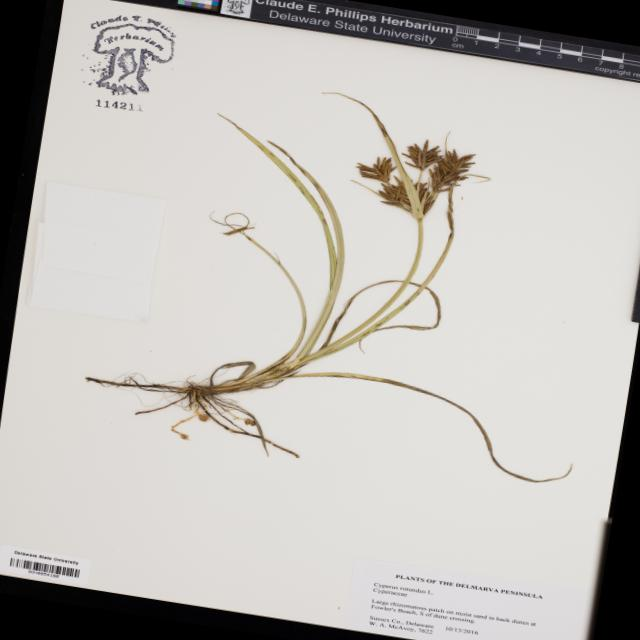cyperus: (338, 114, 498, 234)
